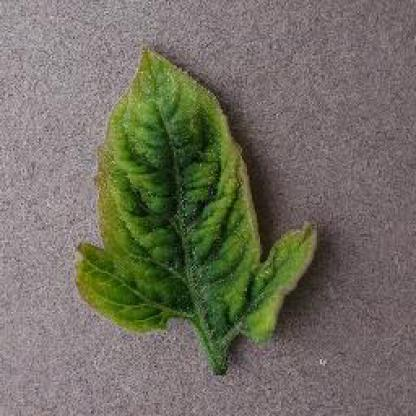bad leaf: (69, 37, 308, 370)
